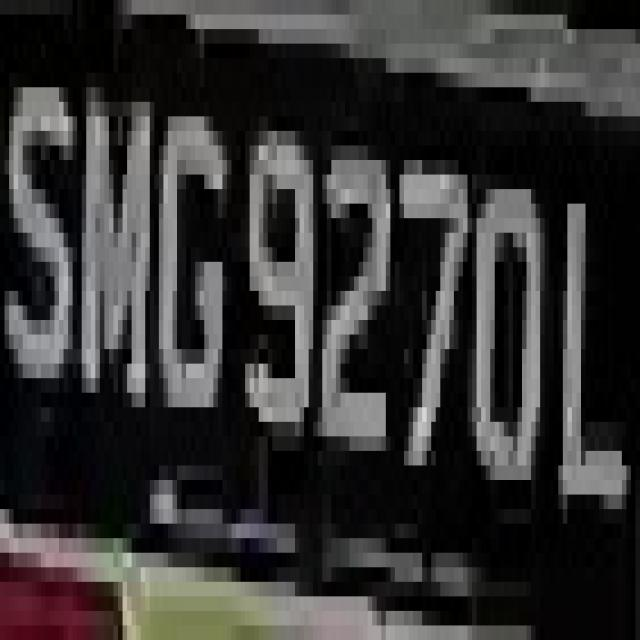0: (468, 131, 544, 538)
2: (304, 102, 395, 480)
7: (386, 131, 463, 524)
9: (236, 87, 313, 480)
G: (146, 88, 232, 466)
L: (531, 117, 636, 568)
M: (68, 44, 154, 436)
S: (0, 58, 73, 407)
